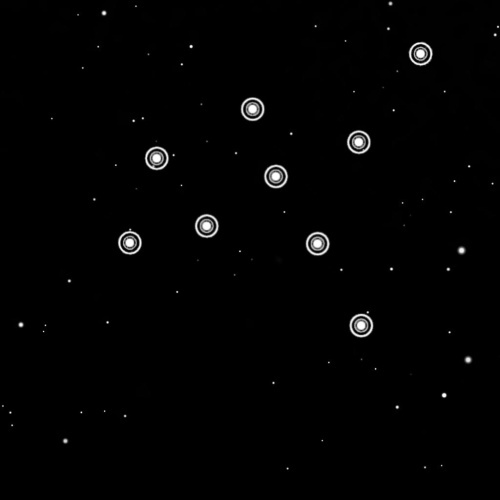cygnus: (109, 35, 438, 349)
